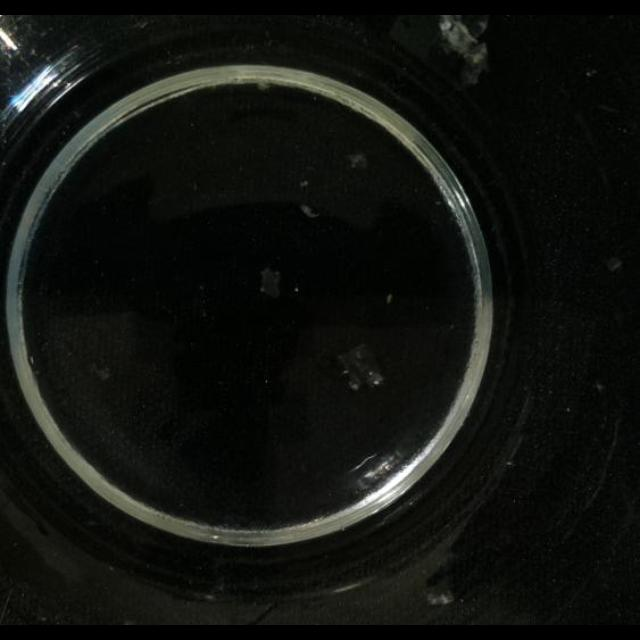Fibre: (426, 587, 456, 607), (300, 204, 318, 218)
microbeads: (299, 178, 309, 188)
